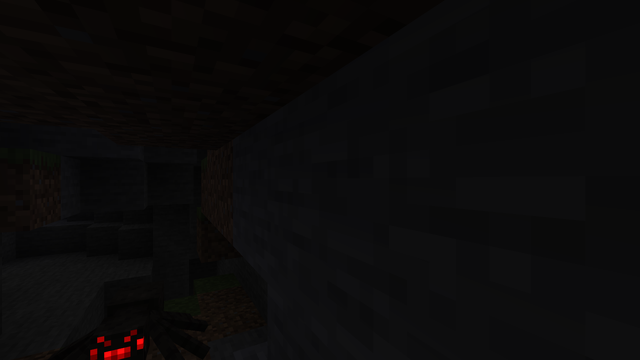araignees: (39, 276, 188, 358)
